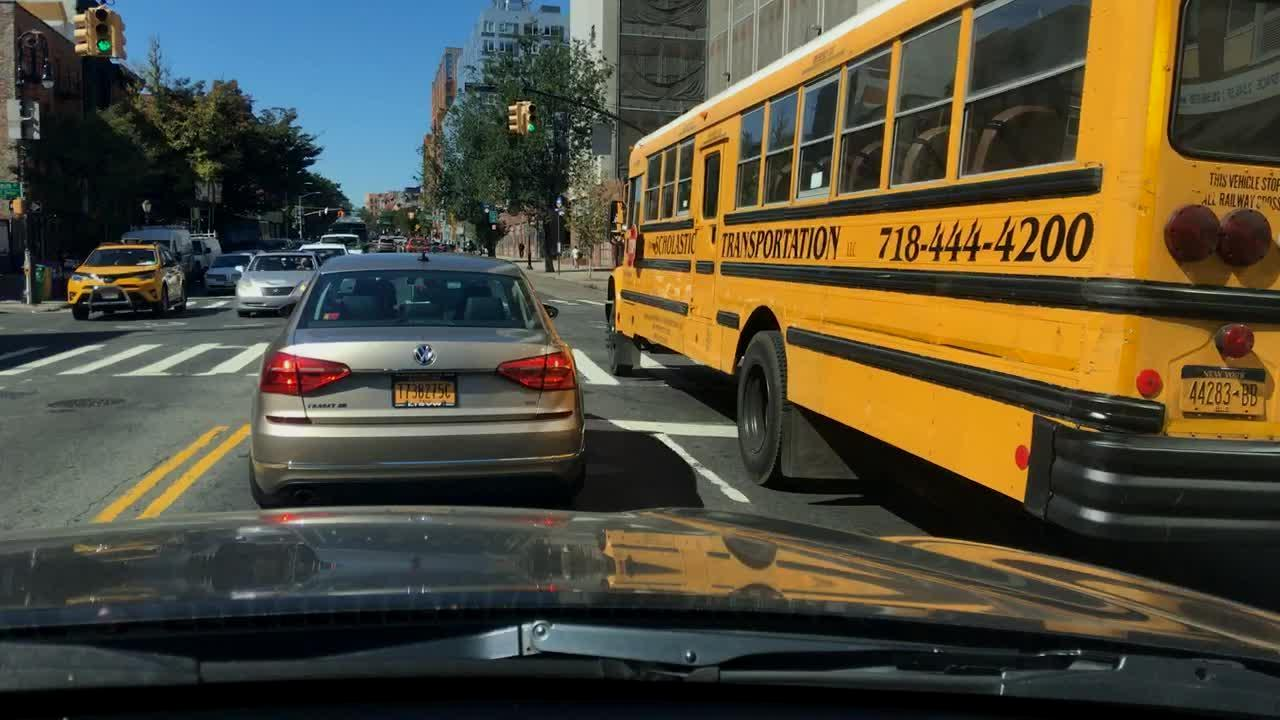Volkswagen: (407, 338, 442, 372)
